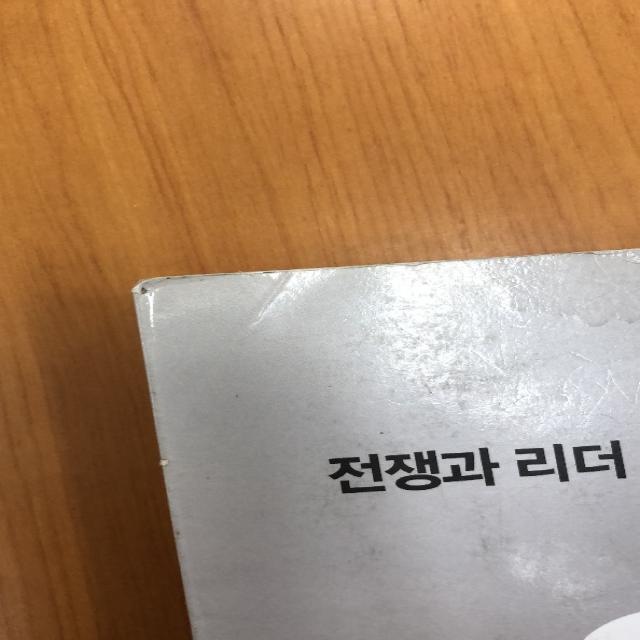Ripped: (125, 267, 200, 317)
Wornout: (299, 244, 473, 285), (499, 244, 639, 265), (142, 451, 181, 474)
